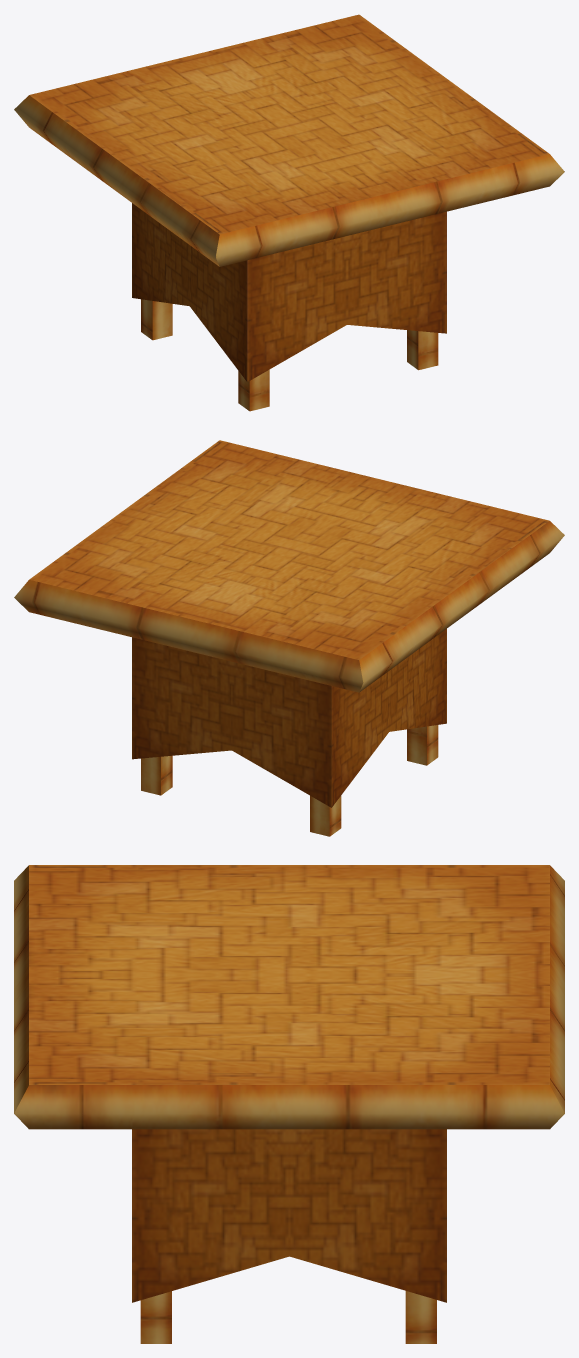
Rendered from Bamboo_Table_02.FBX.
The picture shows the model from 3 angles, top to bottom: view 1: azimuth 30°, elevation 25°; view 2: azimuth 150°, elevation 25°; view 3: azimuth 270°, elevation 25°; orthographic projection. The views are drawn at different scales.
Visible parts, largest first — view 1: Bamboo_Table_02; view 2: Bamboo_Table_02; view 3: Bamboo_Table_02.
Part boxes in pixels (bbox=[...]): Bamboo_Table_02: bbox=[14, 14, 564, 411]; Bamboo_Table_02: bbox=[14, 440, 564, 836]; Bamboo_Table_02: bbox=[14, 865, 564, 1343].
Size of the model in its own units: 1.36 by 1.36 by 0.831.
